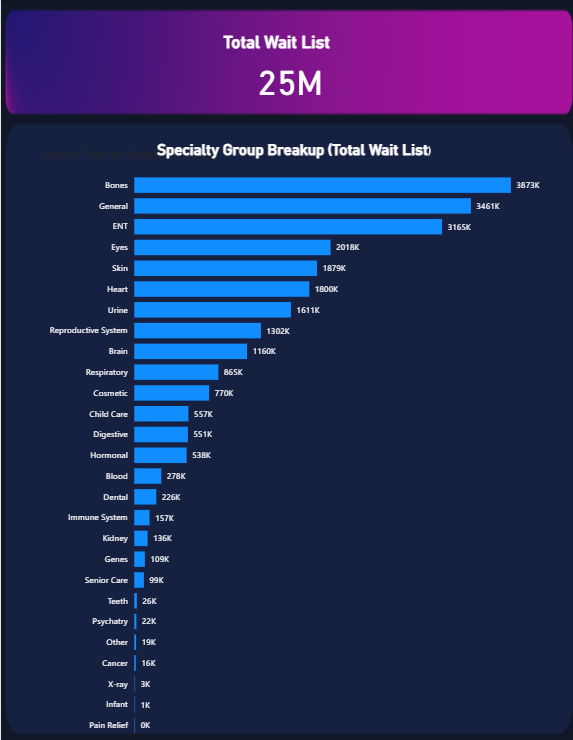

The page's visual inventory and layout, read from the dashboard file:
{"tool":"powerbi","page":{"name":"DrillDown","canvas":[816,1056],"ordinal":2},"visuals":[{"type":"barChart","fields":{"Category":["Mapping_Specialty.Specialty Group"],"Y":["Sum(All_Data.Total)"]},"box":[54.9,208.8,713.1,847.6],"z":0},{"type":"card","fields":{"Values":["Sum(All_Data.Total)"]},"box":[309.7,61.9,199.9,102.6],"z":1000},{"type":"textbox","box":[309.7,42.5,175.2,47.8],"z":2000},{"type":"textbox","box":[215.9,196.4,408.7,44.2],"z":3000}]}

Visuals, with their boxes in screenshot pixels (x1, y1, x2, y2), scaled from the page's 816x1056 canvas onto the 573x740 screenshot:
barChart - Mapping_Specialty.Specialty Group x Sum(All_Data.Total): 39 146 539 739
card - Sum(All_Data.Total): 217 43 358 115
textbox: 217 30 340 63
textbox: 152 138 439 169
